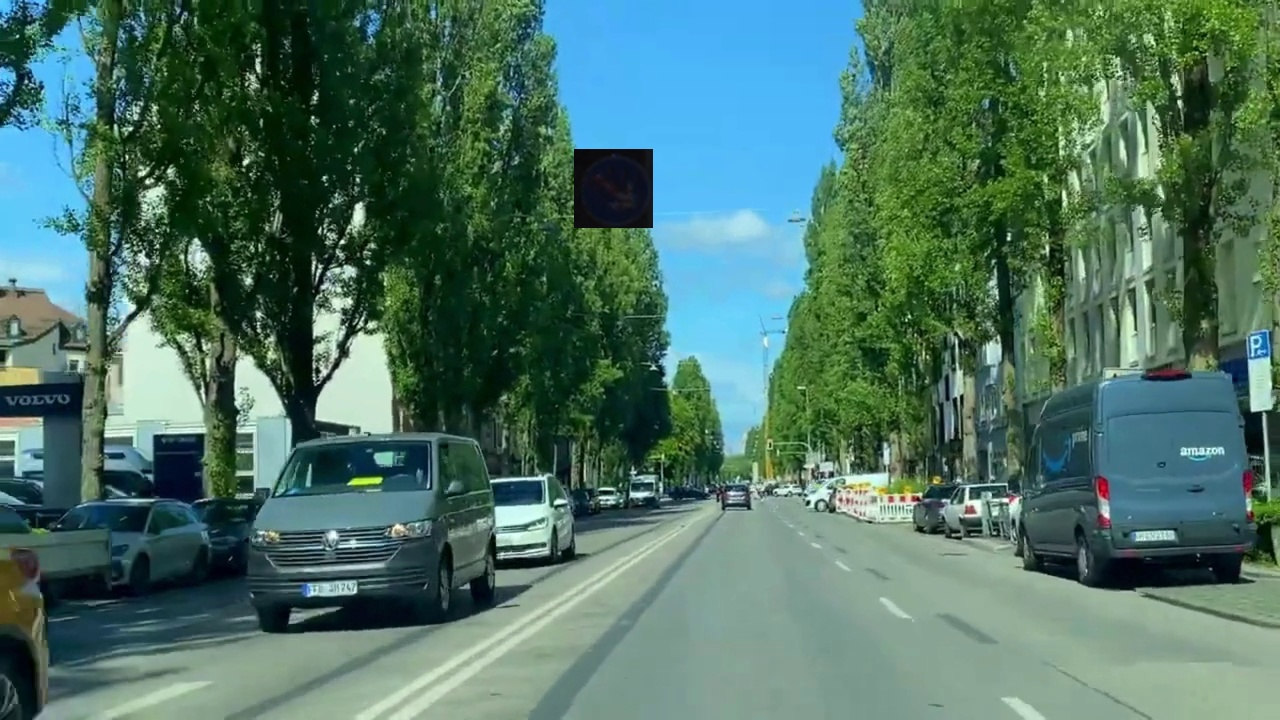Keep right: (574, 149, 653, 228)
